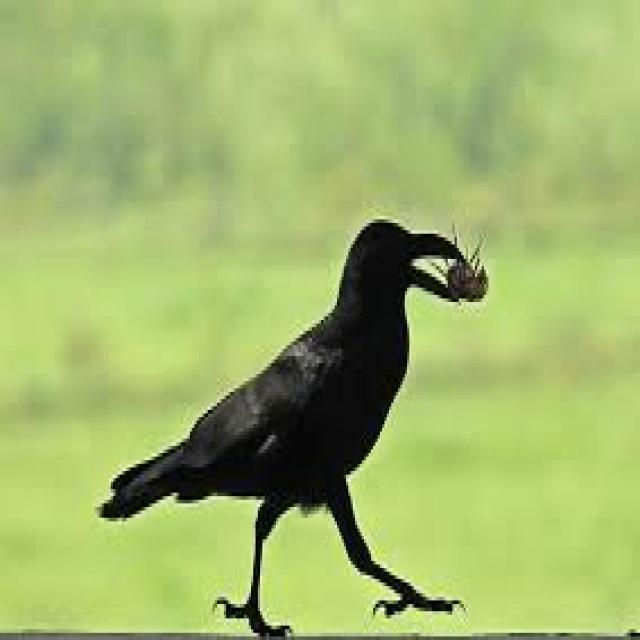crow: (100, 219, 461, 629)
